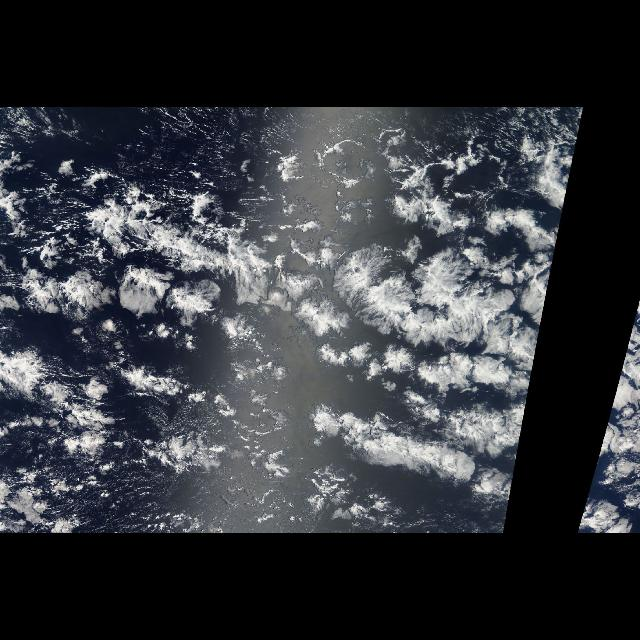Flower: (11, 179, 537, 495)
